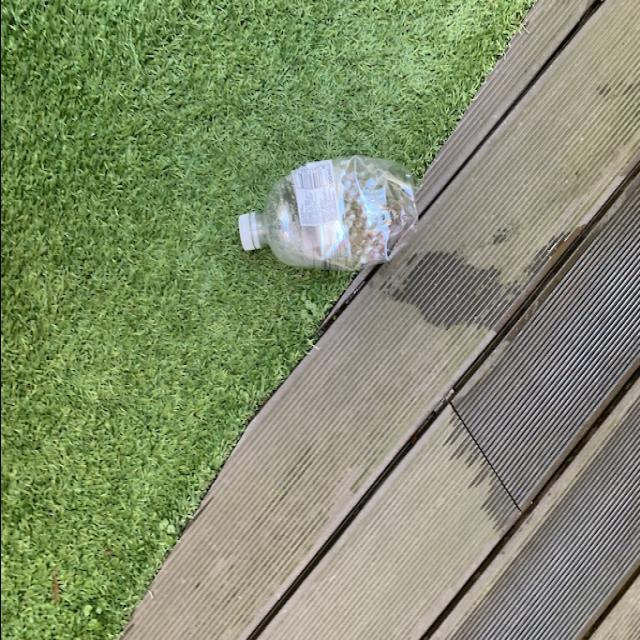PET: (238, 152, 417, 276)
